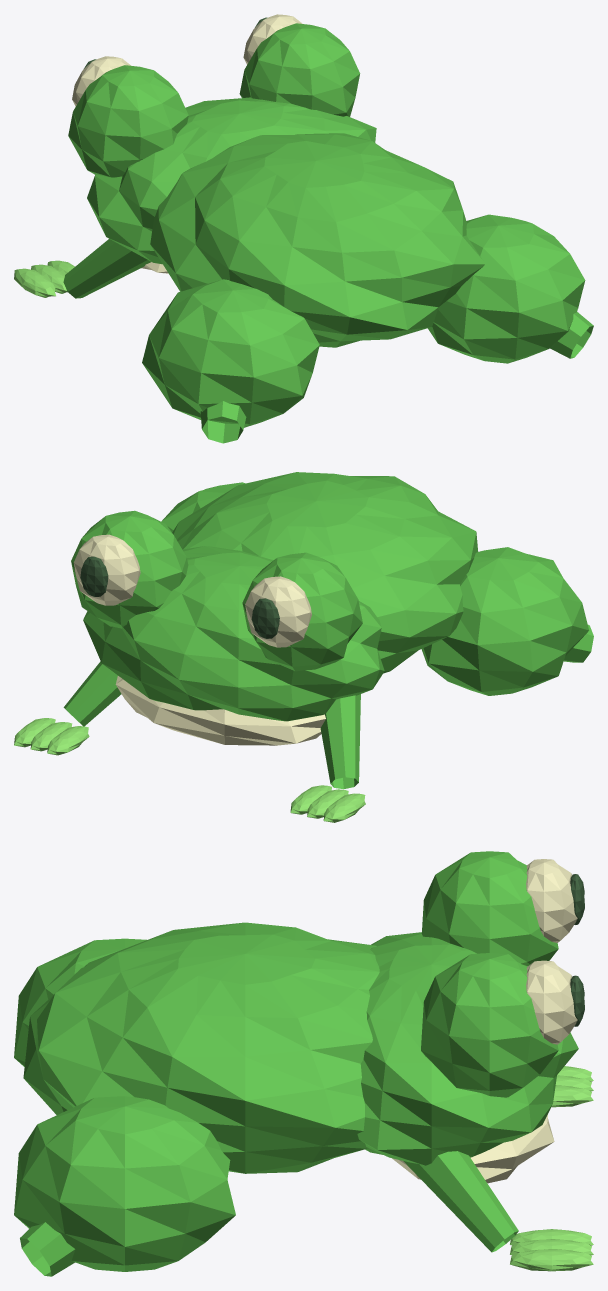
Rendered from frog.gltf.
3 views of the same model, one above another, from view 1: azimuth 30°, elevation 25°; view 2: azimuth 150°, elevation 25°; view 3: azimuth 270°, elevation 25° (orthographic). The views are drawn at different scales.
Parts seen in each view (by area): view 1: frog; view 2: frog; view 3: frog.
Boxes of the visible parts, x1,y1,x2,y2 form: frog: (14,14,593,443); frog: (14,472,593,822); frog: (14,851,593,1276).
Size of the model in its own units: 1.51 by 0.78 by 1.49.
